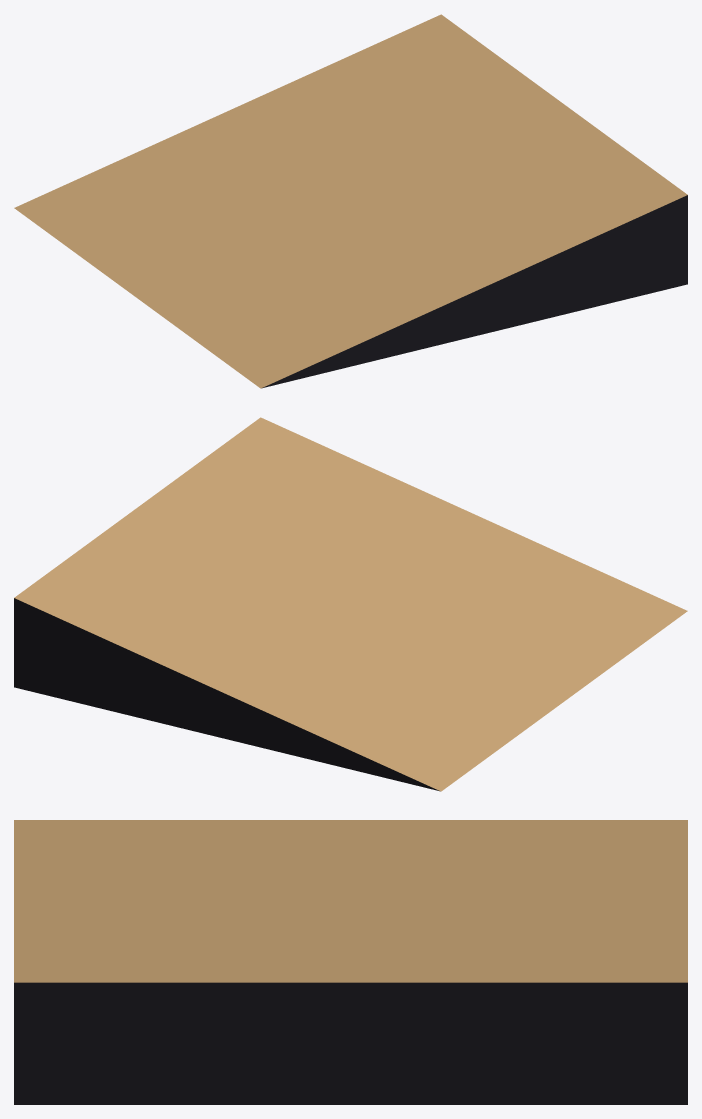
Rendered from Ramp_2.fbx.
3 views of the same model, one above another, from view 1: azimuth 30°, elevation 25°; view 2: azimuth 150°, elevation 25°; view 3: azimuth 270°, elevation 25° (orthographic). The views are drawn at different scales.
Visible parts, largest first — view 1: Ramp_2; view 2: Ramp_2; view 3: Ramp_2.
Part boxes in pixels (x1,y1,x2,y2): Ramp_2: [14, 14, 687, 388]; Ramp_2: [14, 417, 687, 791]; Ramp_2: [14, 820, 687, 1104].
Size of the model in its own units: 10 by 2 by 10.
